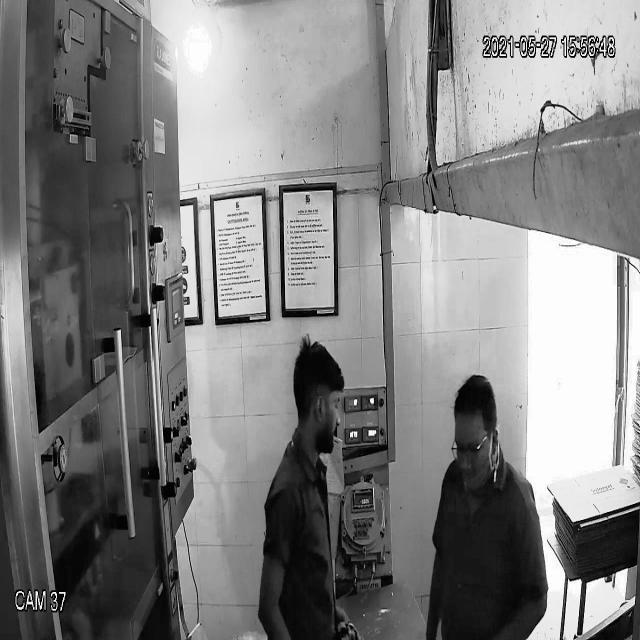glasses: (447, 428, 493, 465)
